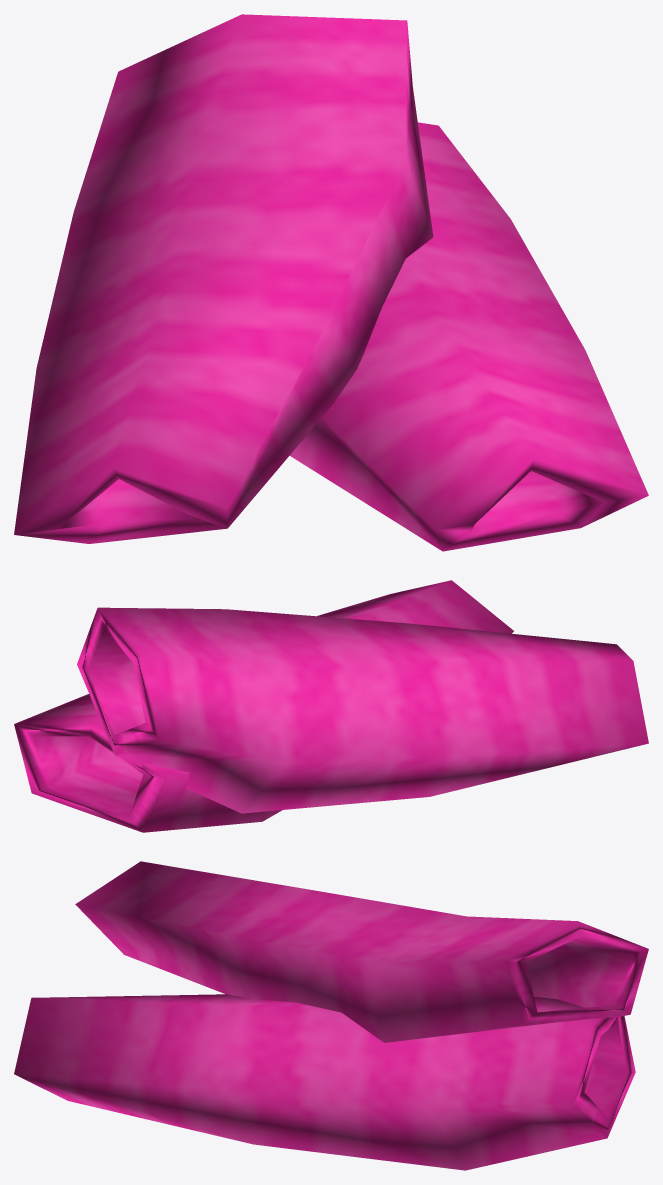
The model's file is WorldItem_LegWarmers.fbx.
The picture shows the model from 3 angles, top to bottom: view 1: azimuth 30°, elevation 25°; view 2: azimuth 150°, elevation 25°; view 3: azimuth 270°, elevation 25°; orthographic projection. The views are drawn at different scales.
Visible parts, largest first — view 1: Body; view 2: Body; view 3: Body.
Part boxes in pixels (x1,y1,x2,y2): Body: (14,14,648,551); Body: (14,580,648,832); Body: (14,861,648,1170).
Size of the model in its own units: 0.2052 by 0.0756 by 0.227.
